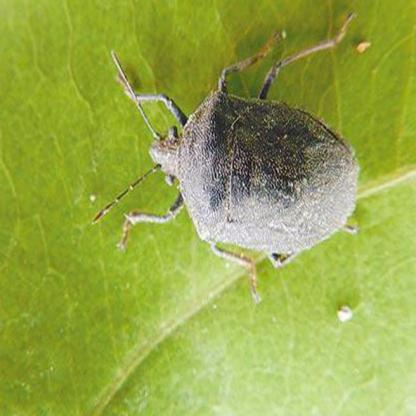rice-bug: (109, 15, 364, 281)
